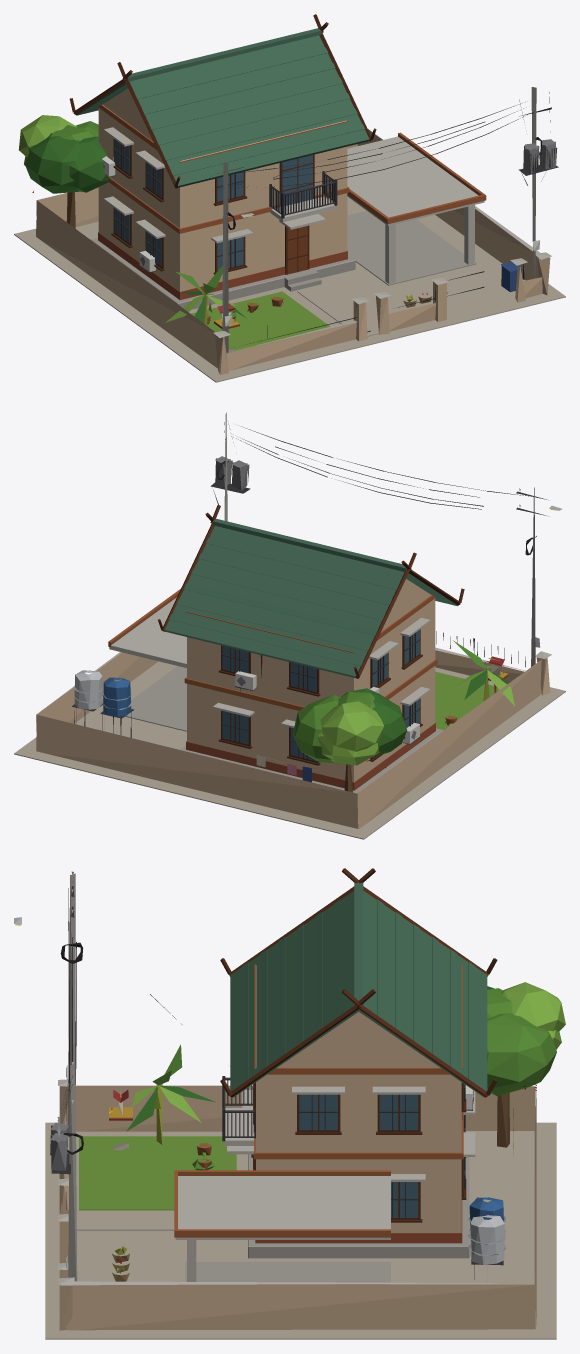
Rendered from home_2.glb.
3 renders of one model, top to bottom at view 1: azimuth 30°, elevation 25°; view 2: azimuth 150°, elevation 25°; view 3: azimuth 270°, elevation 25°, orthographic. The views are drawn at different scales.
Parts seen in each view (by area): view 1: body, windows; view 2: body, windows; view 3: body, windows.
Boxes of the visible parts, x1=… form: body: x1=14, y1=14, x2=565, y2=382; windows: x1=114, y1=139, x2=312, y2=270; body: x1=14, y1=412, x2=565, y2=839; windows: x1=222, y1=509, x2=559, y2=761; body: x1=14, y1=868, x2=565, y2=1339; windows: x1=15, y1=924, x2=463, y2=1217.
Size of the model in its own units: 16.34 by 9.76 by 17.17.
